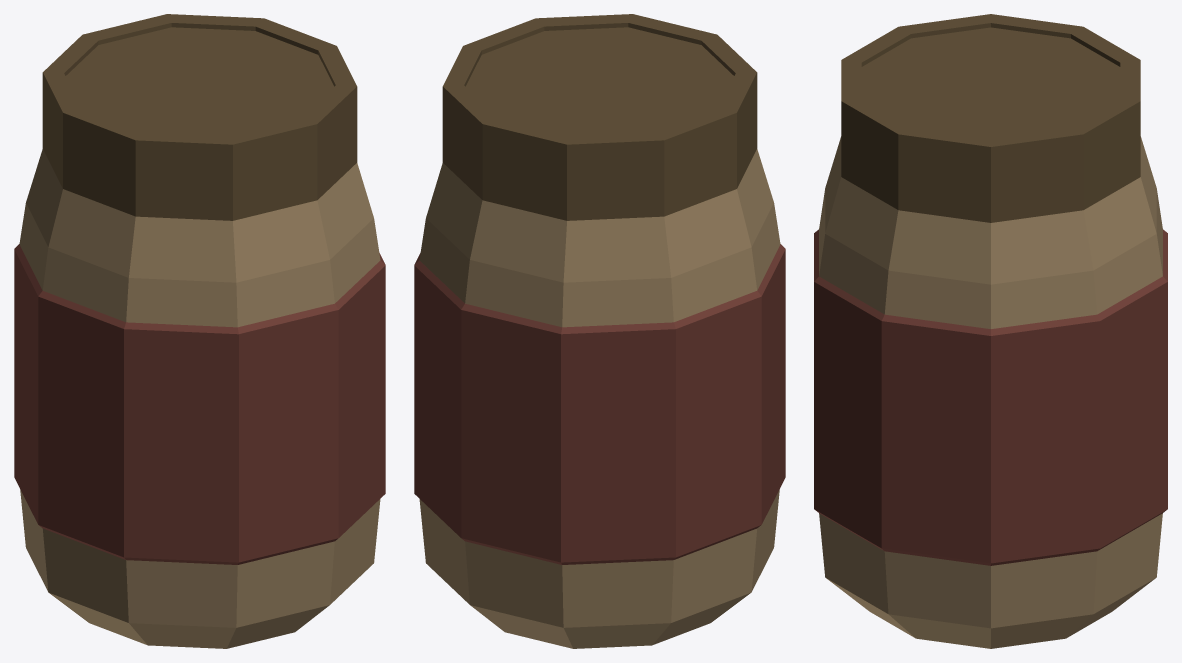
File: food-PeanutButter.glb
The picture shows the model from 3 angles, left to right: view 1: azimuth 30°, elevation 25°; view 2: azimuth 150°, elevation 25°; view 3: azimuth 270°, elevation 25°; orthographic projection.
Parts seen in each view (by area): view 1: PeanutButter; view 2: PeanutButter; view 3: PeanutButter.
Boxes of the visible parts, x1,y1,x2,y2 form: PeanutButter: (14, 14, 385, 648); PeanutButter: (414, 14, 785, 648); PeanutButter: (814, 14, 1167, 648).
Size of the model in its own units: 0.4746 by 0.7243 by 0.4514.
